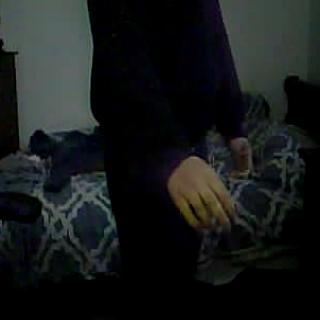Navy Sweatpants: (97, 143, 210, 320)
